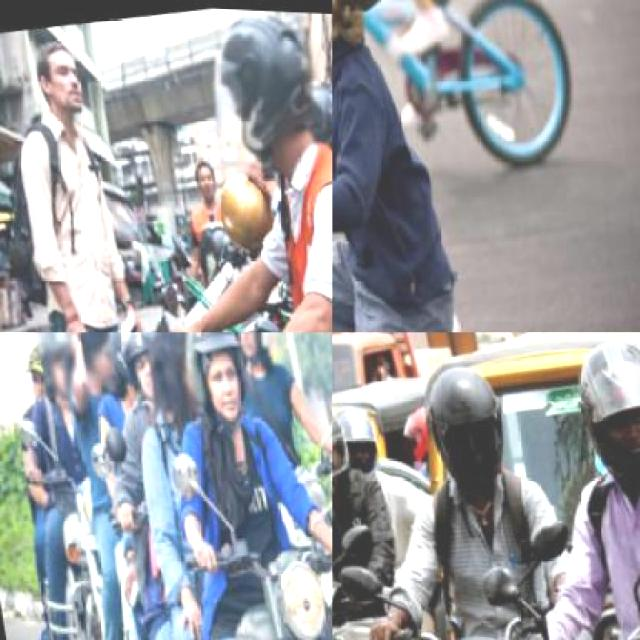With Helmet: (195, 5, 331, 183), (405, 340, 530, 514), (556, 332, 638, 506), (177, 332, 248, 414), (332, 392, 390, 491), (114, 332, 174, 408), (332, 388, 363, 510), (32, 332, 85, 402), (220, 332, 274, 360)
Without Helmet: (140, 332, 208, 418), (75, 332, 120, 392)
